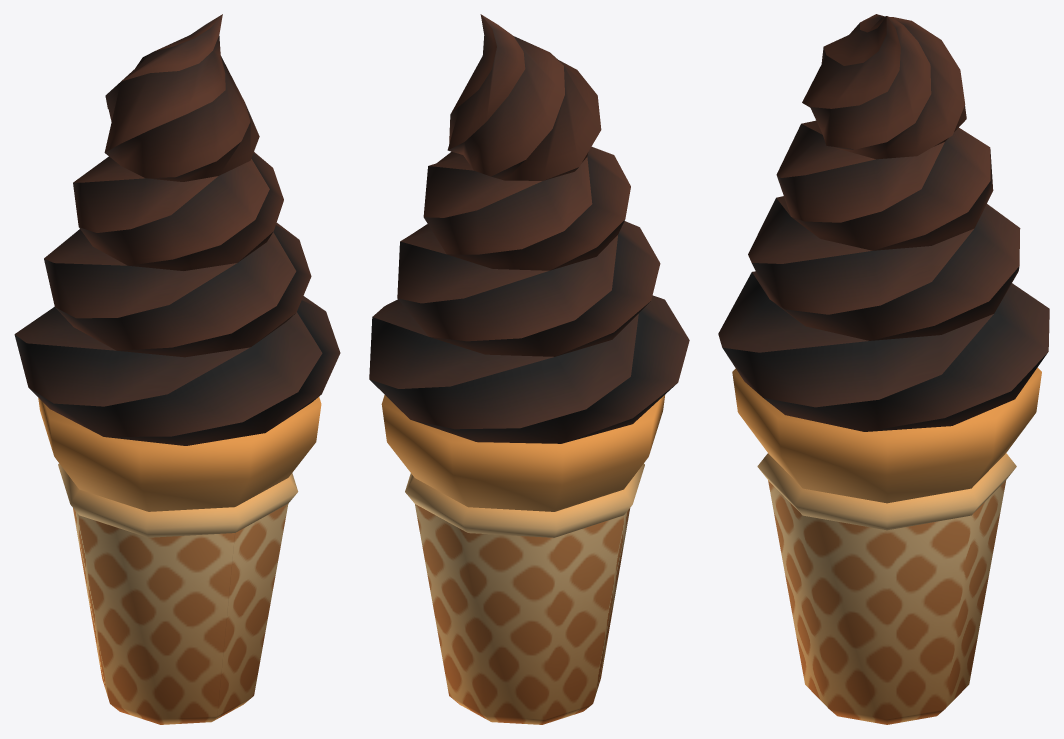
The model's file is m_Softserve04.fbx.
3 views of the same model, side by side, from view 1: azimuth 30°, elevation 25°; view 2: azimuth 150°, elevation 25°; view 3: azimuth 270°, elevation 25° (orthographic). The views are drawn at different scales.
Visible parts, largest first — view 1: m_Softserve04; view 2: m_Softserve04; view 3: m_Softserve04.
Boxes of the visible parts, box(x1,y1,x2,y2) form: m_Softserve04: box(14, 14, 340, 724); m_Softserve04: box(369, 14, 689, 724); m_Softserve04: box(718, 14, 1049, 724).
Size of the model in its own units: 11.45 by 26 by 11.13.
